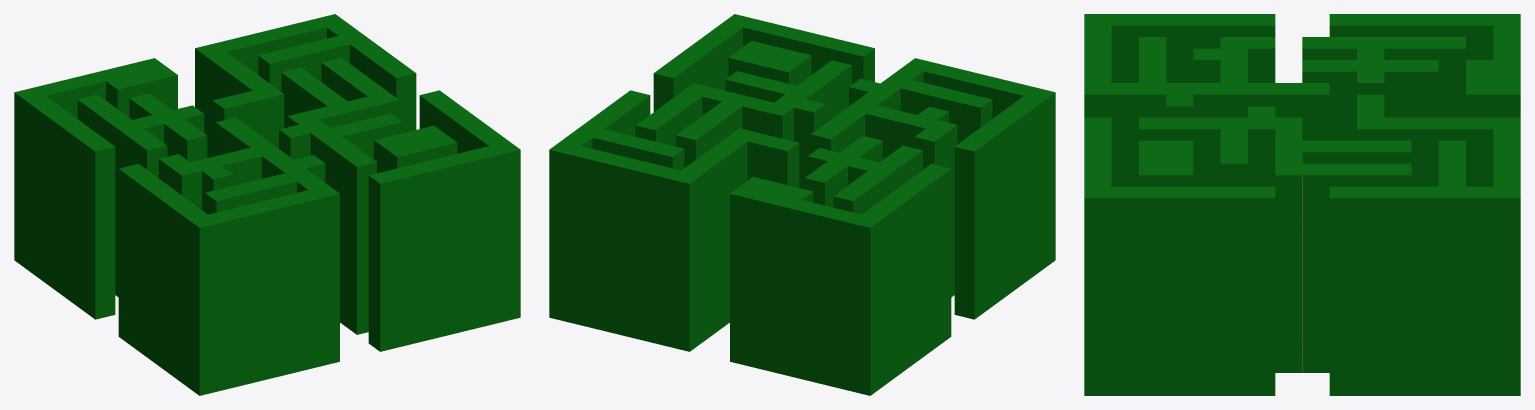
File: Maze.glb
3 renders of one model, left to right at view 1: azimuth 30°, elevation 25°; view 2: azimuth 150°, elevation 25°; view 3: azimuth 270°, elevation 25°, orthographic. The views are drawn at different scales.
Visible parts, largest first — view 1: Maze; view 2: Maze; view 3: Maze.
Part boxes in pixels (bbox=[...]): Maze: bbox=[14, 14, 520, 395]; Maze: bbox=[549, 14, 1055, 395]; Maze: bbox=[1084, 14, 1520, 395].
Bounding box in the file's own units: 1 × 0.5 × 1.
1 material, 1 textured.
